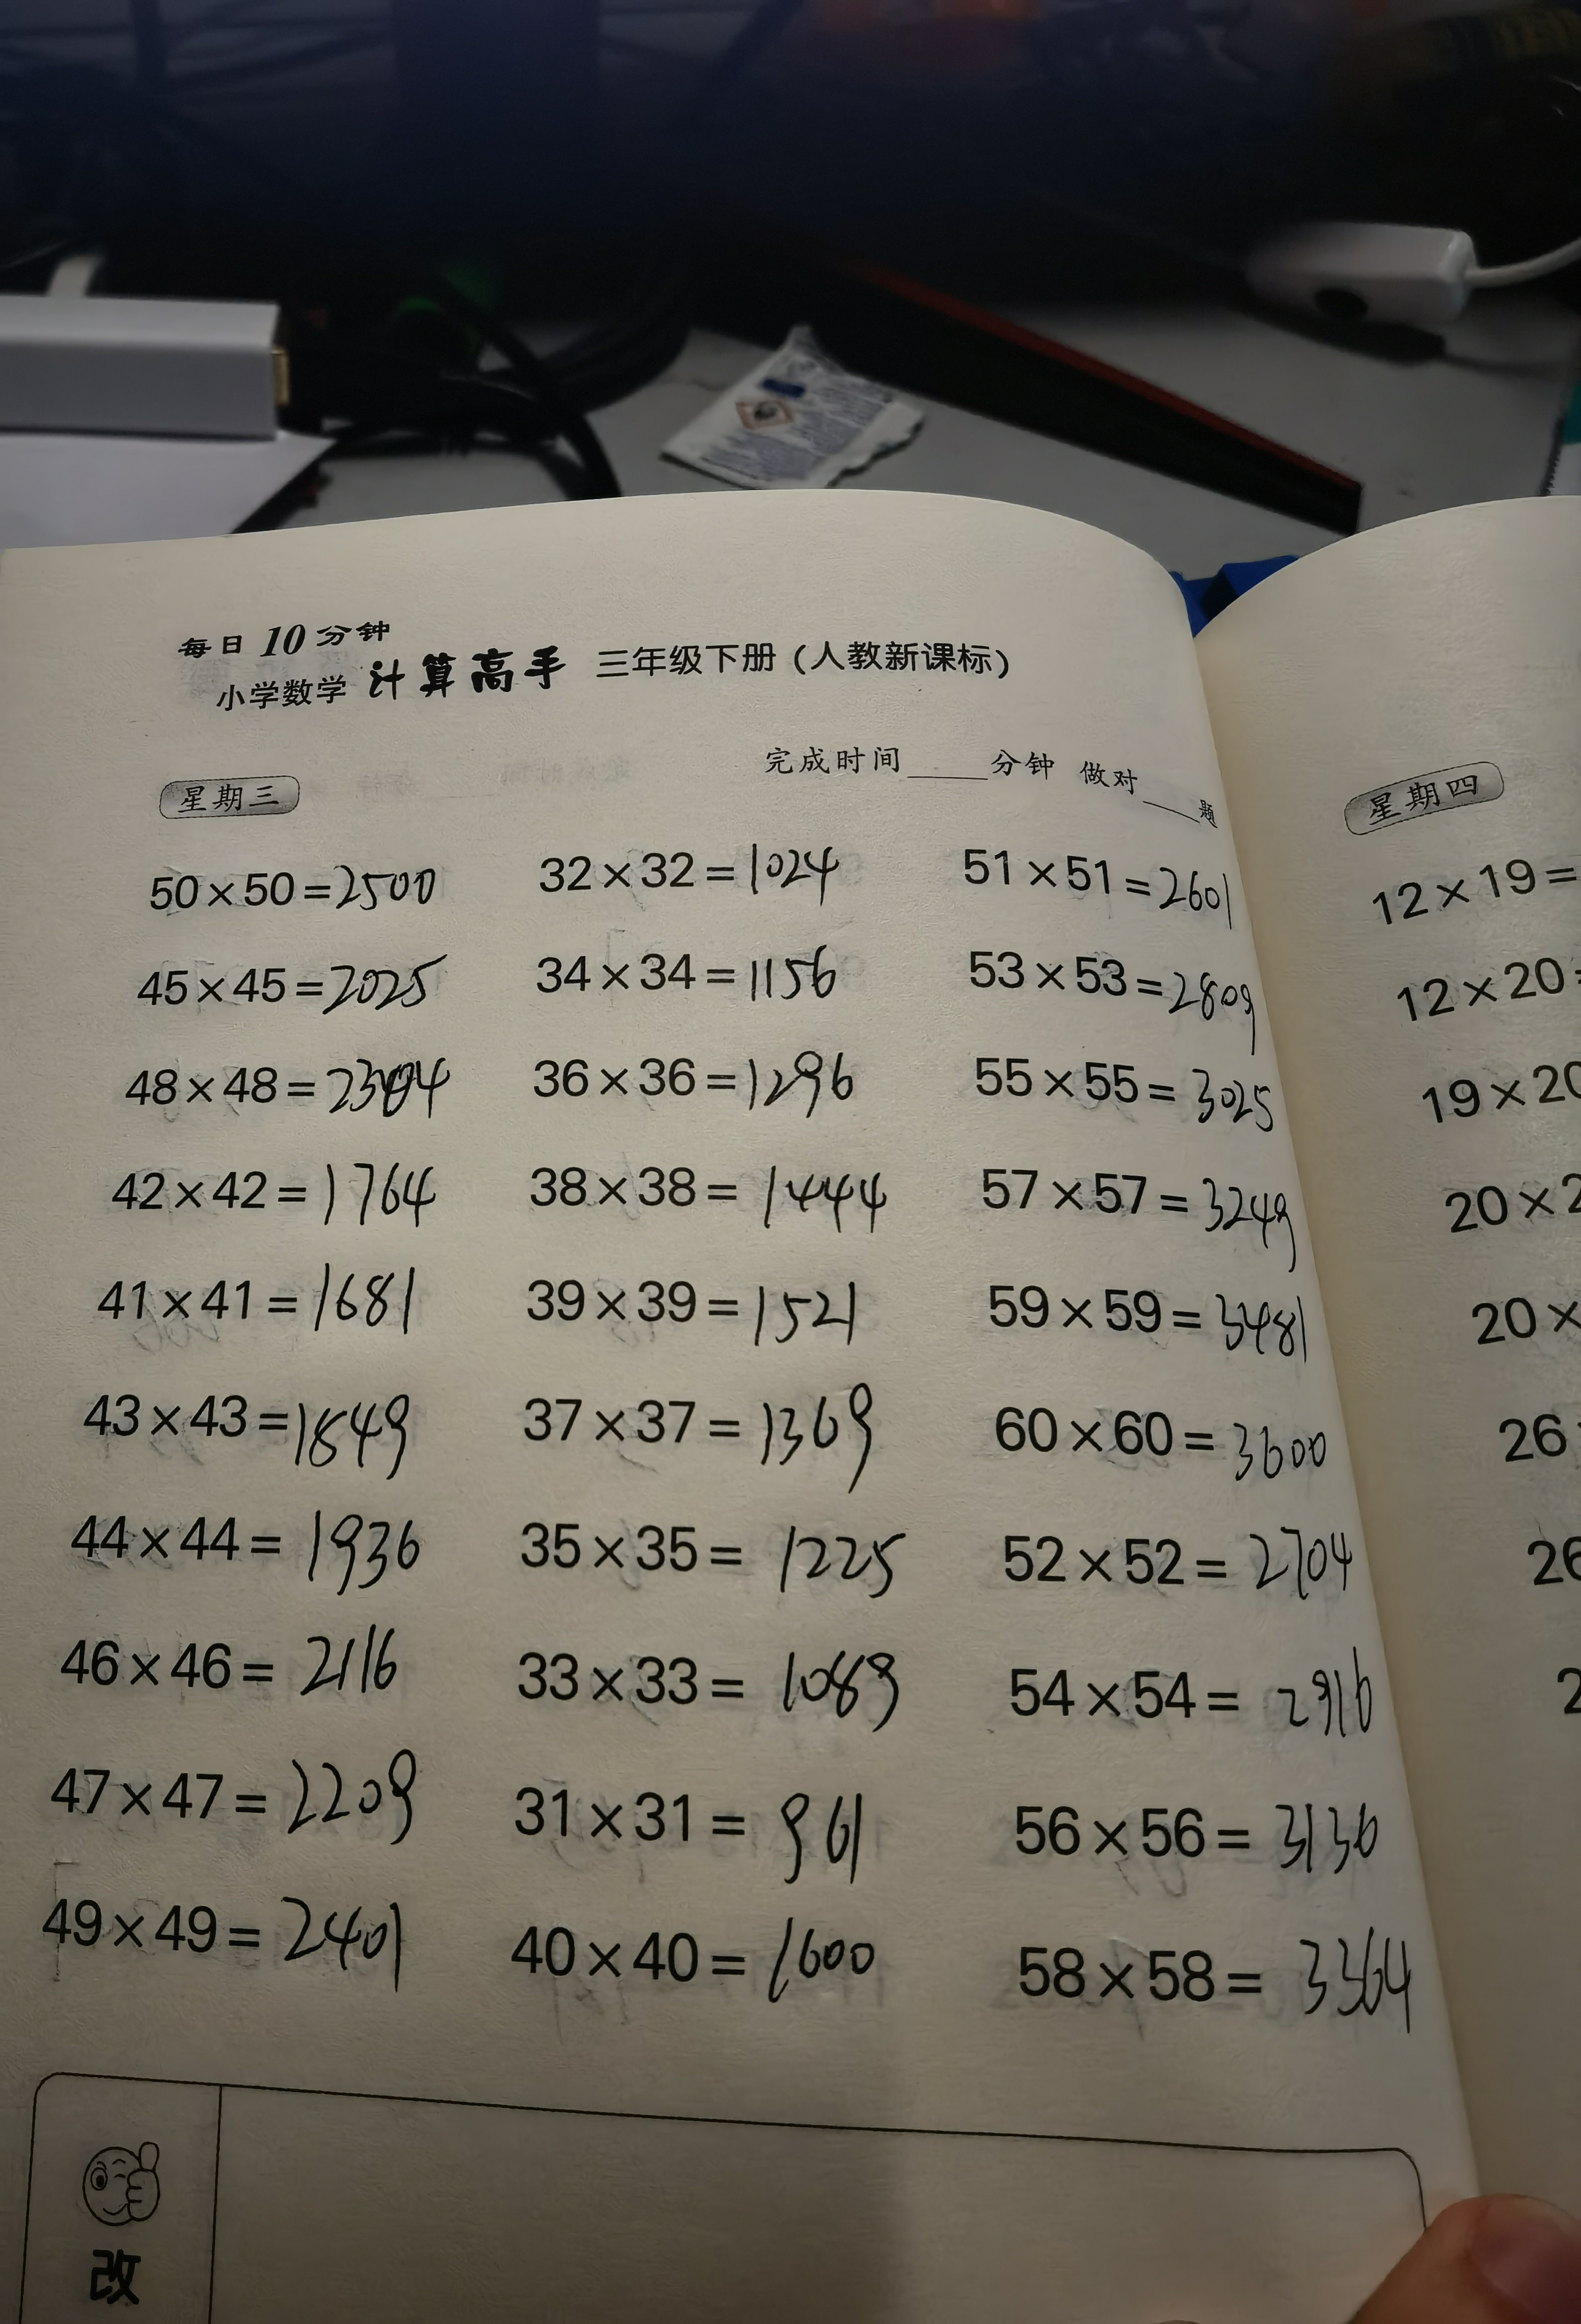equation: (972, 1909, 1449, 2052), (16, 1860, 441, 2010), (498, 1756, 909, 1909), (489, 1893, 898, 2040), (997, 1645, 1415, 1782), (39, 1726, 455, 1860), (517, 1516, 940, 1646), (501, 1373, 910, 1502), (508, 1129, 905, 1260), (90, 1341, 429, 1489), (60, 1484, 432, 1615), (962, 1027, 1306, 1158), (983, 1389, 1352, 1511), (949, 933, 1285, 1061), (978, 1262, 1339, 1378), (499, 1260, 882, 1368), (1009, 1777, 1406, 1879), (79, 1242, 445, 1352), (44, 1613, 455, 1708), (111, 1032, 482, 1133), (505, 1650, 923, 1738), (965, 1165, 1316, 1263), (526, 1032, 882, 1126), (990, 1526, 1390, 1608), (512, 932, 863, 1022), (955, 831, 1256, 933), (101, 1142, 441, 1232), (143, 843, 448, 939), (125, 939, 457, 1023), (503, 835, 863, 909)
